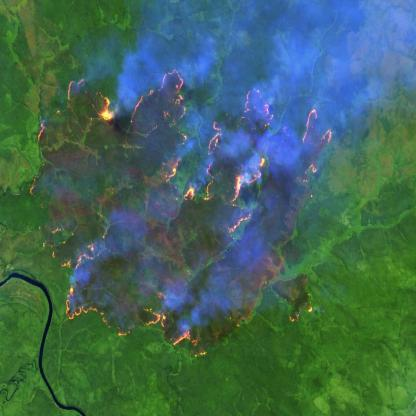fire: (25, 63, 341, 367)
